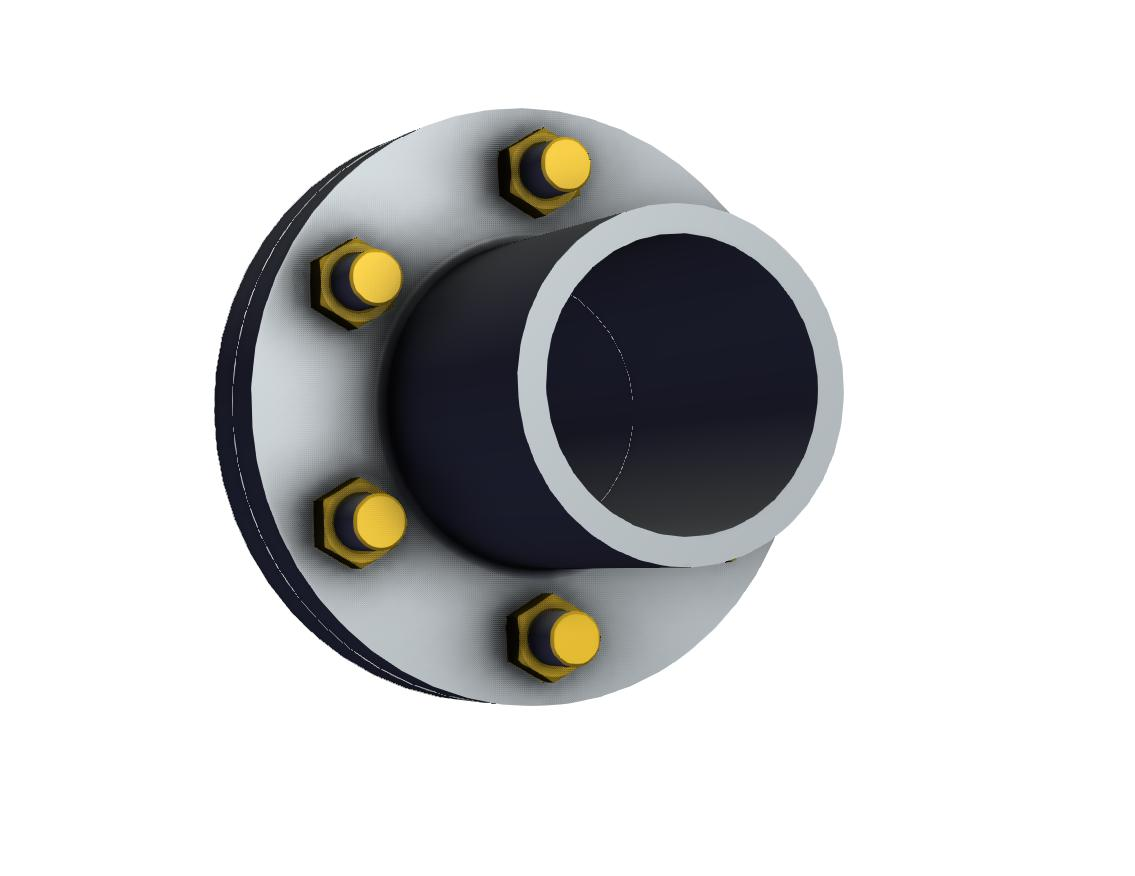bolt_b: (310, 476, 405, 571), (308, 234, 399, 332), (505, 592, 599, 685), (495, 126, 585, 221)
